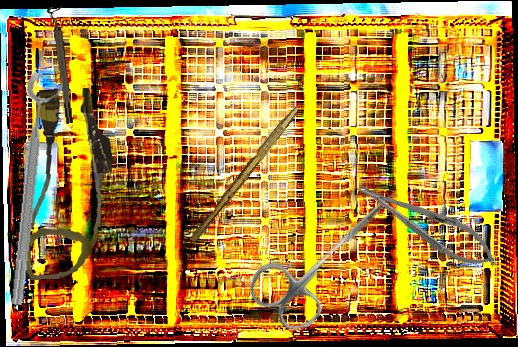Cannula: (15, 86, 118, 281)
Fixation Ring: (4, 71, 67, 308), (46, 5, 76, 125)
Iris Scissors: (241, 164, 418, 341)
Needle Holder: (349, 169, 506, 279)
Scalpel Handle: (188, 102, 301, 246)
